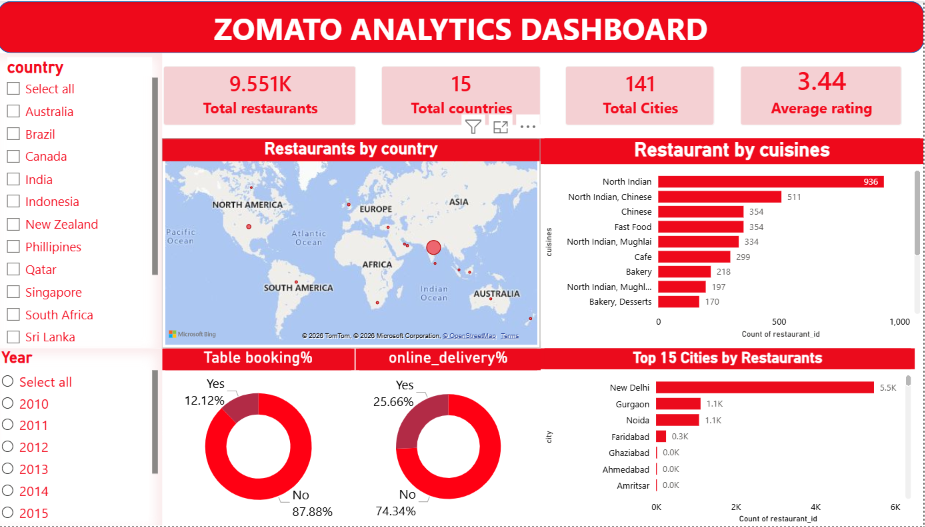

Layout of this report page (visuals, bound fields, positions):
{"tool":"powerbi","page":{"name":"Dashboard","canvas":[1280,720],"ordinal":8},"visuals":[{"type":"cardVisual","fields":{"Data":["CountNonNull(restaurants_clean_all.restaurant_id)"]},"box":[218.9,70.9,299.3,116.6],"z":0},{"type":"cardVisual","fields":{"Data":["Count(Country_Map.country)"]},"box":[518.2,70.9,253.6,116.6],"z":1},{"type":"cardVisual","fields":{"Data":["Count(restaurants_clean_all.city)"]},"box":[771.8,70.9,239.4,116.6],"z":2},{"type":"shape","box":[9.5,0,1271.1,70.9],"z":3},{"type":"cardVisual","fields":{"Data":["Avg(restaurants_clean_all.rating)"]},"box":[1011.4,71.4,256.6,116.6],"z":4},{"type":"map","title":"Restaurants by country","fields":{"Category":["Country_Map.country"],"Size":["CountNonNull(restaurants_clean_all.restaurant_id)"]},"box":[234.7,188,520.1,288.2],"z":5},{"type":"clusteredBarChart","title":"Restaurant by cuisines","fields":{"Category":["restaurants_clean_all.cuisines"],"Y":["CountNonNull(restaurants_clean_all.restaurant_id)"]},"box":[754.8,188,525.6,278.6],"z":6},{"type":"donutChart","title":"Table booking%","fields":{"Category":["restaurants_clean_all.has_table_booking"],"Y":["CountNonNull(restaurants_clean_all.restaurant_id)"]},"box":[234.7,476.2,264.9,244.3],"z":7},{"type":"donutChart","title":"online_delivery%","fields":{"Category":["restaurants_clean_all.has_online_delivery"],"Y":["CountNonNull(restaurants_clean_all.restaurant_id)"]},"box":[500.9,476.2,253.9,244.3],"z":8},{"type":"clusteredBarChart","title":"Top 15 Cities by Restaurants","fields":{"Category":["restaurants_clean_all.city"],"Y":["CountNonNull(restaurants_clean_all.restaurant_id)"]},"box":[754.8,476.2,513.3,244.3],"z":9},{"type":"slicer","fields":{"Values":["Country_Map.country"]},"box":[9.5,70.9,225.2,404.8],"z":10},{"type":"listSlicer","fields":{"Values":["Calendar_Table.Year"]},"box":[9.5,475.7,225.2,242.6],"z":11}]}

Visuals, with their boxes in screenshot pixels (x1, y1, x2, y2), scaled from the page's 1280x720 canvas onto the 925x527 screenshot:
cardVisual - CountNonNull(restaurants_clean_all.restaurant_id): 158 52 374 137
cardVisual - Count(Country_Map.country): 374 52 558 137
cardVisual - Count(restaurants_clean_all.city): 558 52 731 137
shape: 7 0 924 52
cardVisual - Avg(restaurants_clean_all.rating): 731 52 916 138
"Restaurants by country" map: 170 138 545 349
"Restaurant by cuisines" clusteredBarChart: 545 138 924 342
"Table booking%" donutChart: 170 349 361 526
"online_delivery%" donutChart: 362 349 545 526
"Top 15 Cities by Restaurants" clusteredBarChart: 545 349 916 526
slicer - Country_Map.country: 7 52 170 348
listSlicer - Calendar_Table.Year: 7 348 170 526
